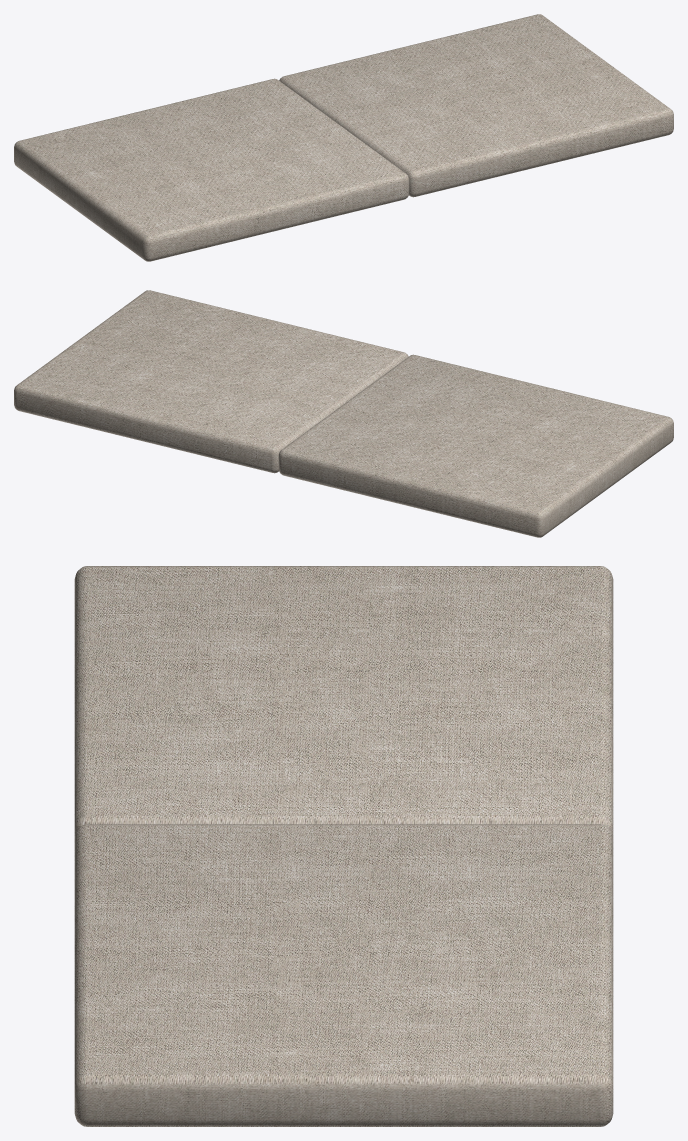
File: Sofa seating.FBX
3 views of the same model, one above another, from view 1: azimuth 30°, elevation 25°; view 2: azimuth 150°, elevation 25°; view 3: azimuth 270°, elevation 25° (orthographic). The views are drawn at different scales.
Visible parts, largest first — view 1: sofa seating; view 2: sofa seating; view 3: sofa seating.
Boxes of the visible parts, x1,y1,x2,y2 form: sofa seating: [14, 14, 673, 261]; sofa seating: [14, 290, 673, 537]; sofa seating: [74, 566, 613, 1126].
Size of the model in its own units: 194 by 9.13 by 85.35.
